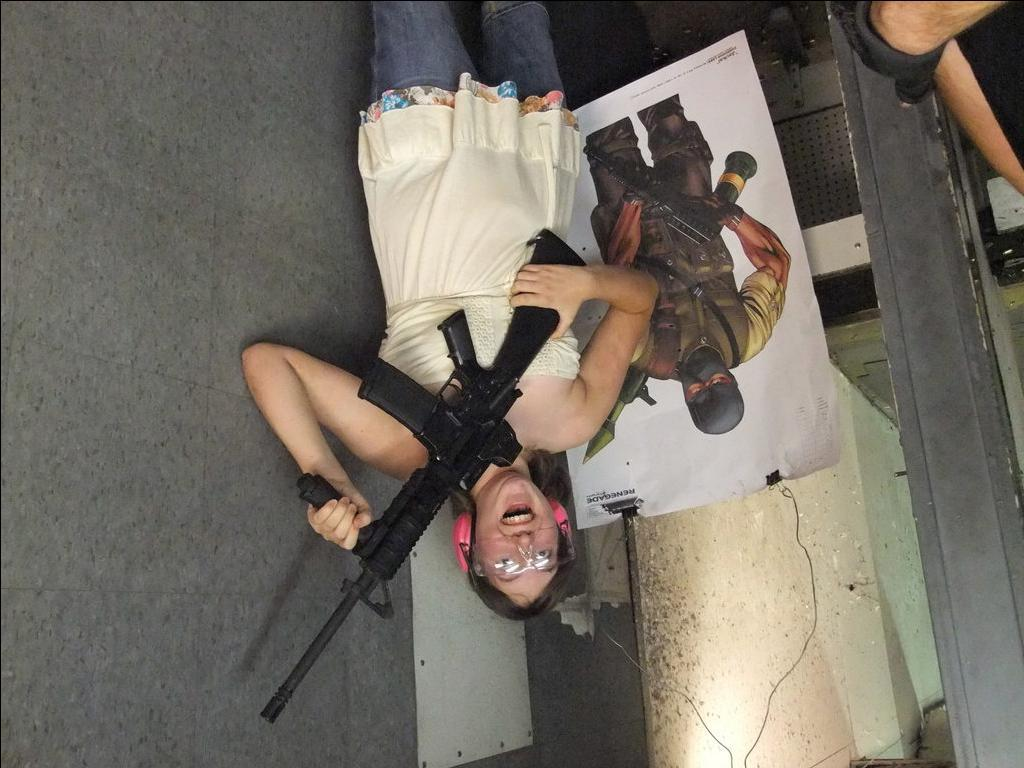gun: (252, 222, 587, 730)
